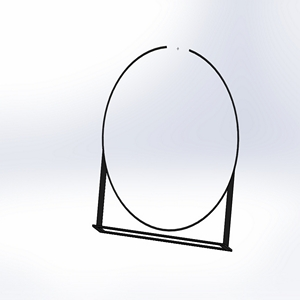circle: (90, 41, 240, 253)
